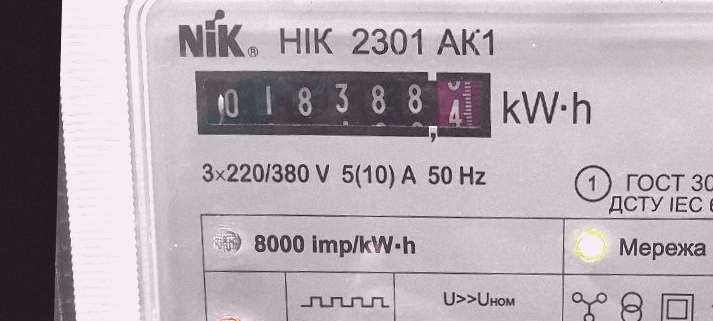0: (221, 84, 241, 121)
1: (259, 80, 278, 117)
3: (332, 80, 353, 115)
4: (444, 95, 465, 128)
8: (294, 82, 316, 118), (404, 80, 426, 116), (368, 82, 389, 117)
screen: (185, 55, 505, 153)
